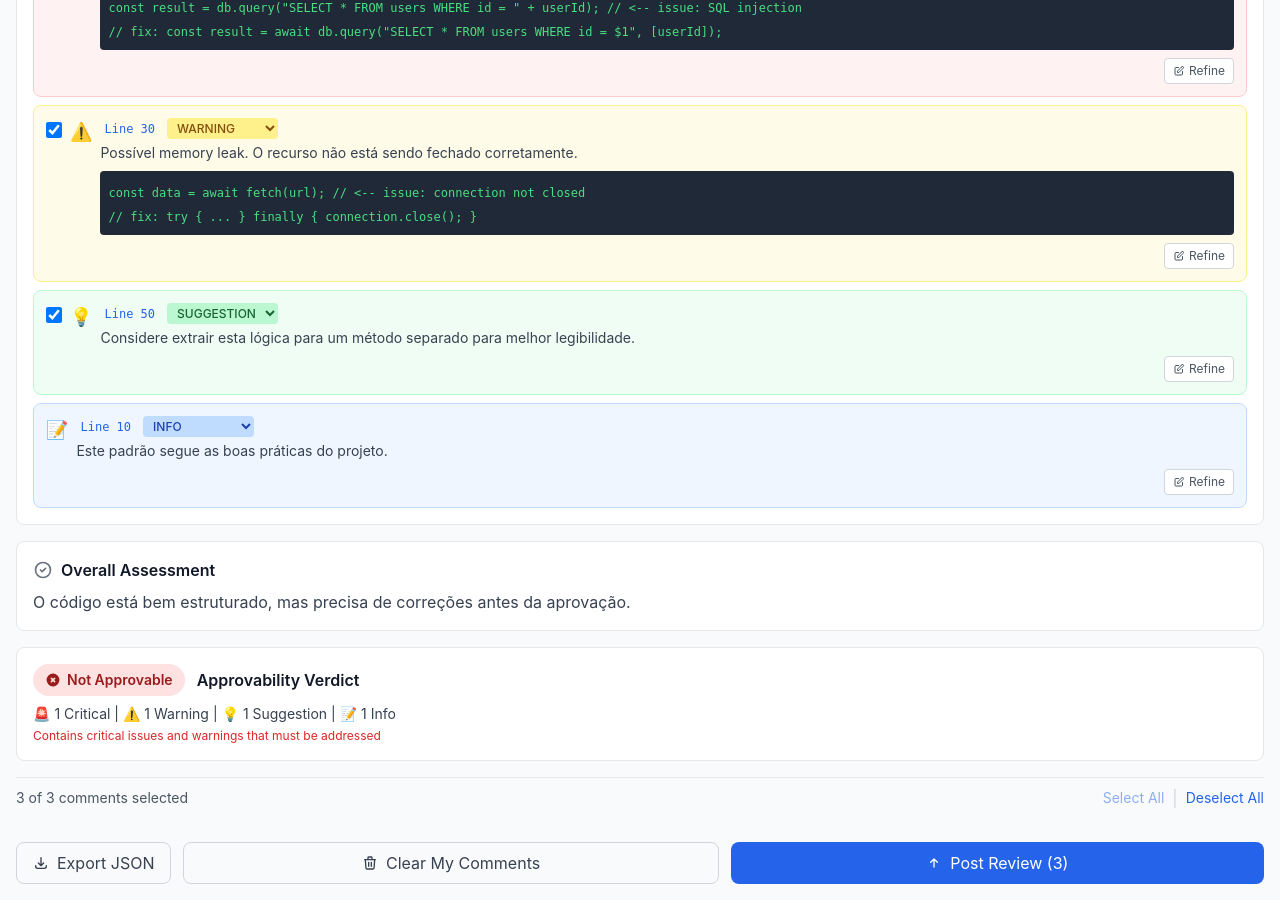
Test: ReviewDisplayView › Comment Selection › should select all postable comments when Select All is clicked
The width and height of the screenshot is (1280, 900).
(page scrolled)
Click the button "Deselect All": (1225, 798) [1186,786,1264,810]
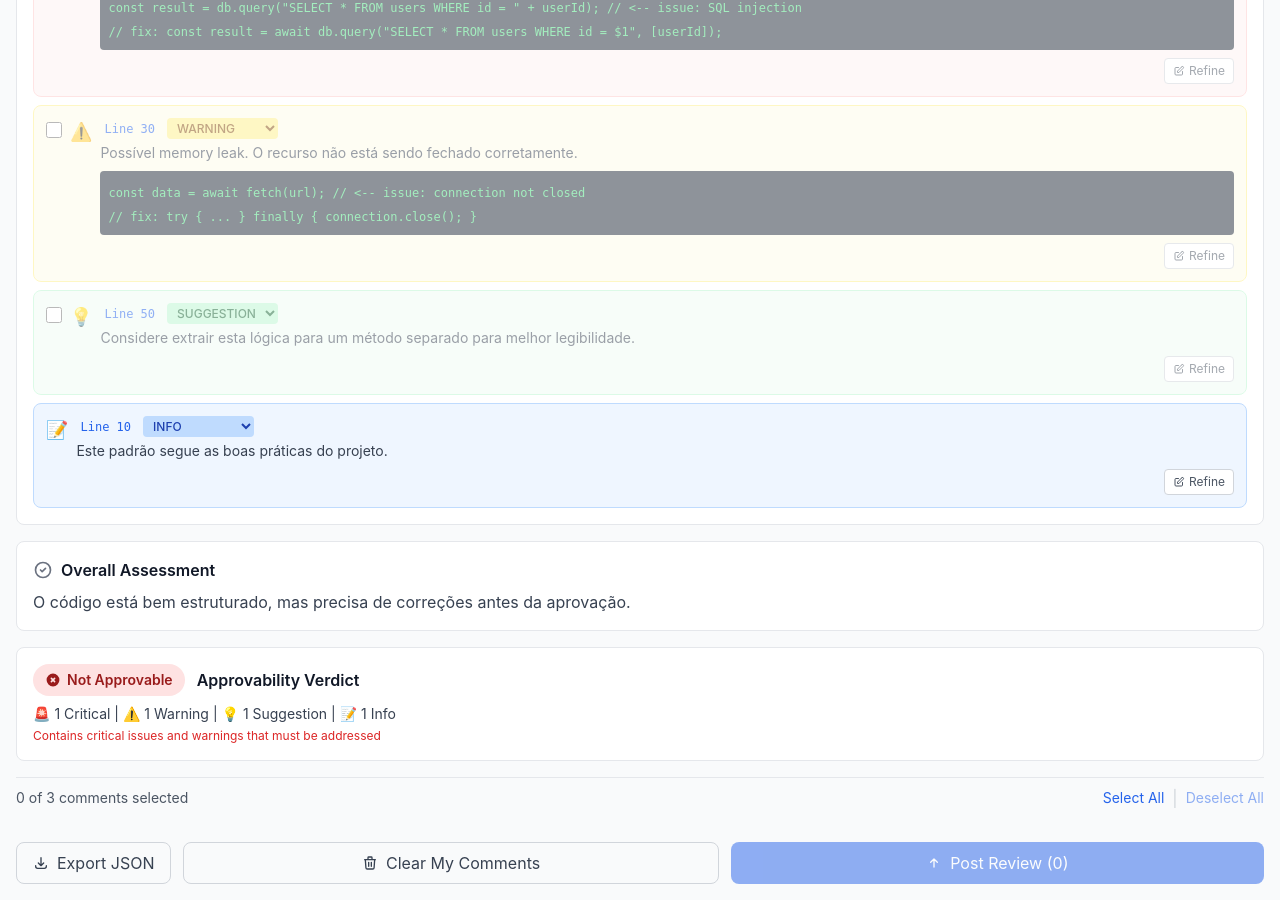
Check: the text "0 of 3 comments selected" is shown, box [16,788,188,808]
Click the button "Select All": (1134, 798) [1103,786,1164,810]
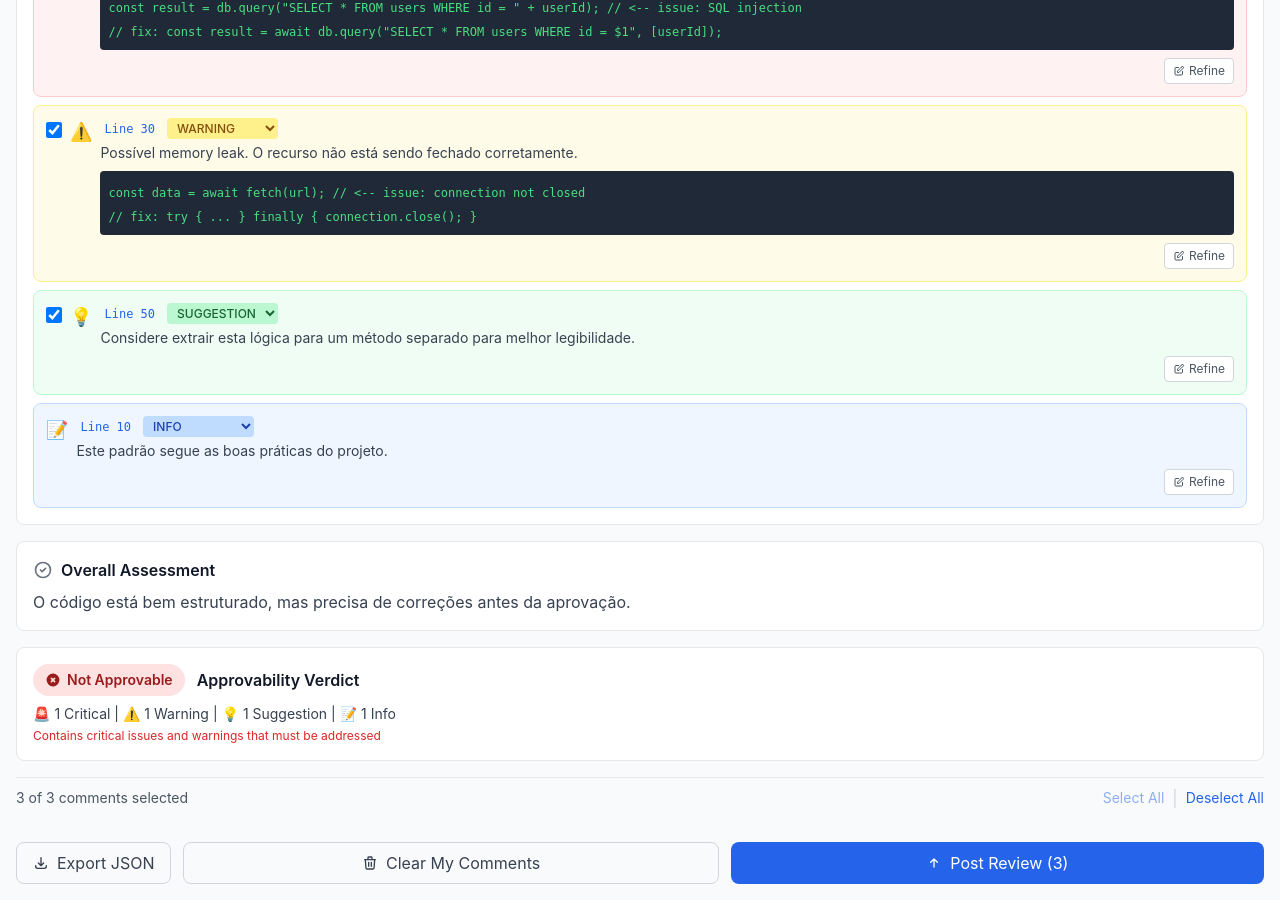
Check: the text "3 of 3 comments selected" is shown, box [16,788,188,808]
